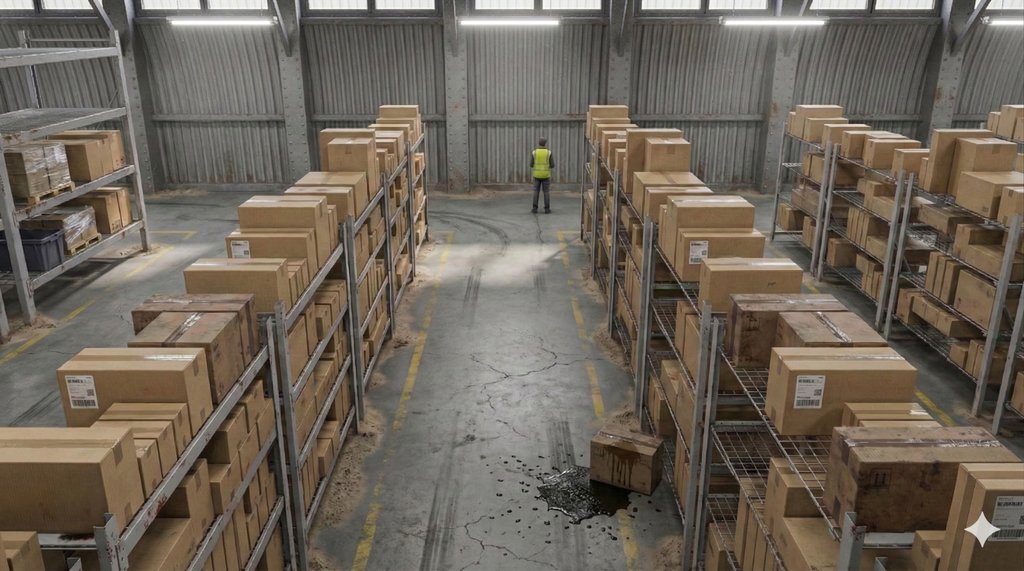empty_shelf: (0, 14, 134, 127)
obstacle: (592, 398, 663, 507)
person: (512, 134, 571, 218)
safety_vest: (530, 145, 555, 182)
spill: (508, 365, 641, 536)
